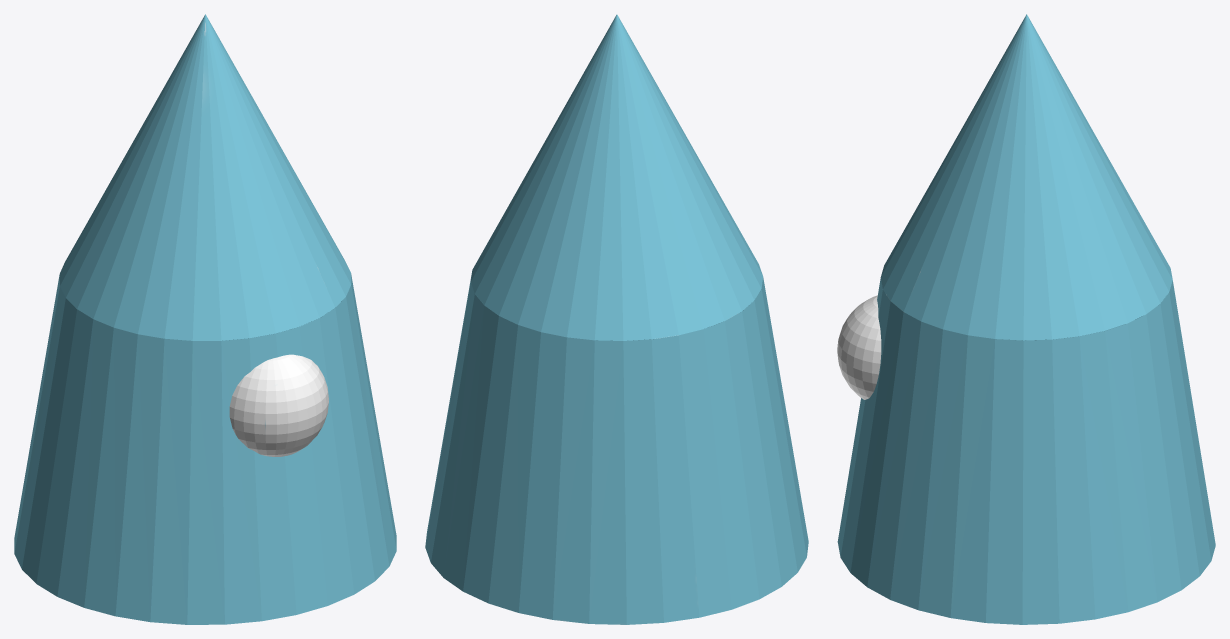
Rendered from player.obj.
3 renders of one model, left to right at view 1: azimuth 30°, elevation 25°; view 2: azimuth 150°, elevation 25°; view 3: azimuth 270°, elevation 25°, orthographic.
Visible parts, largest first — view 1: 球.002_球.003; view 2: 球.002_球.003; view 3: 球.002_球.003.
Part boxes in pixels (bbox=[...]): 球.002_球.003: bbox=[14, 14, 396, 624]; 球.002_球.003: bbox=[425, 14, 808, 624]; 球.002_球.003: bbox=[837, 14, 1215, 624].
Size of the model in its own units: 2.63 by 4 by 2.59.
Materials: 1 (1 with a texture image).
